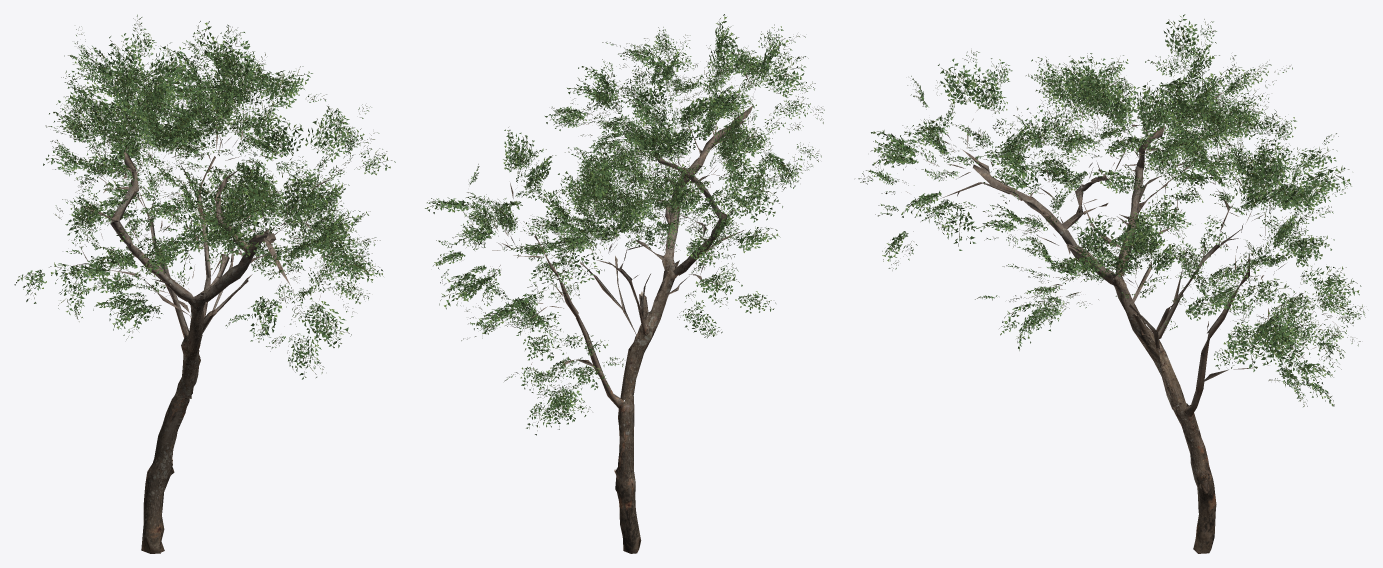
Rendered from cycle-tree.glb.
3 views of the same model, side by side, from view 1: azimuth 30°, elevation 25°; view 2: azimuth 150°, elevation 25°; view 3: azimuth 270°, elevation 25° (orthographic). The views are drawn at different scales.
Visible parts, largest first — view 1: tree_small_02_LOD0; view 2: tree_small_02_LOD0; view 3: tree_small_02_LOD0.
Boxes of the visible parts, x1,y1,x2,y2 form: tree_small_02_LOD0: (14, 14, 395, 553); tree_small_02_LOD0: (425, 14, 824, 553); tree_small_02_LOD0: (858, 14, 1365, 553).
Size of the model in its own units: 2.89 by 4.56 by 4.27.
3 materials, 3 textured.
